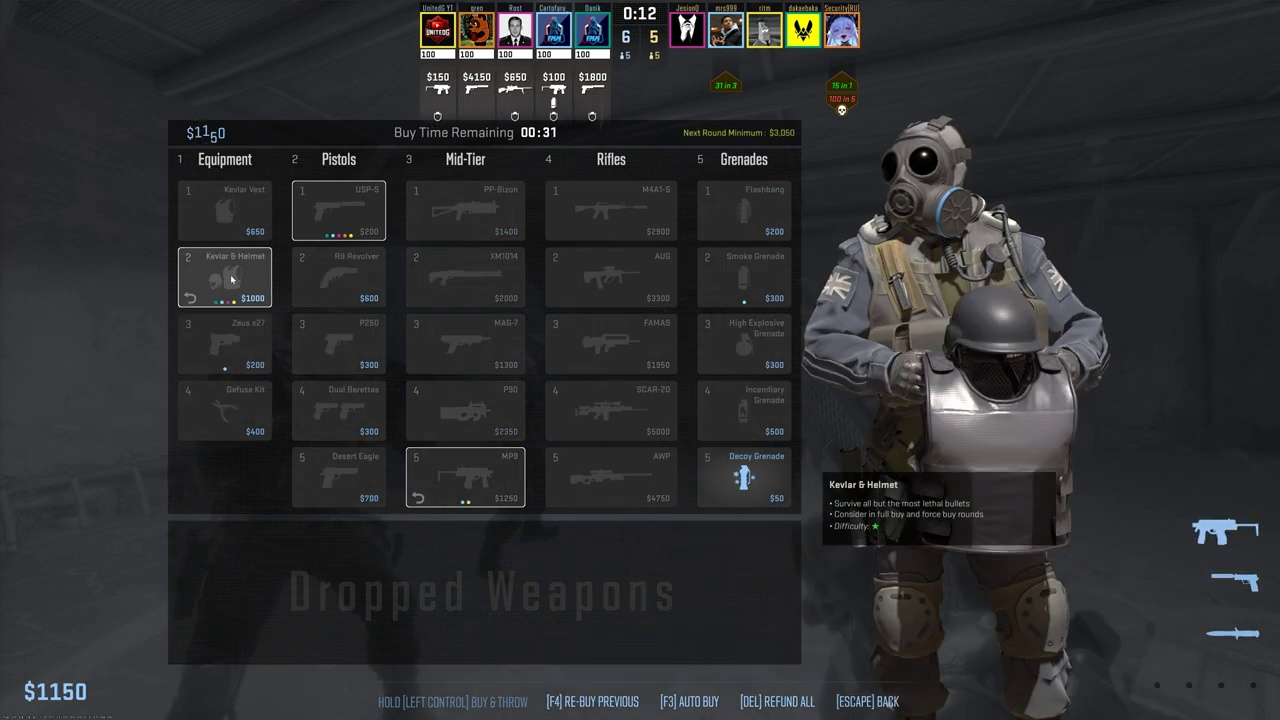CT: (842, 120, 1078, 720)
